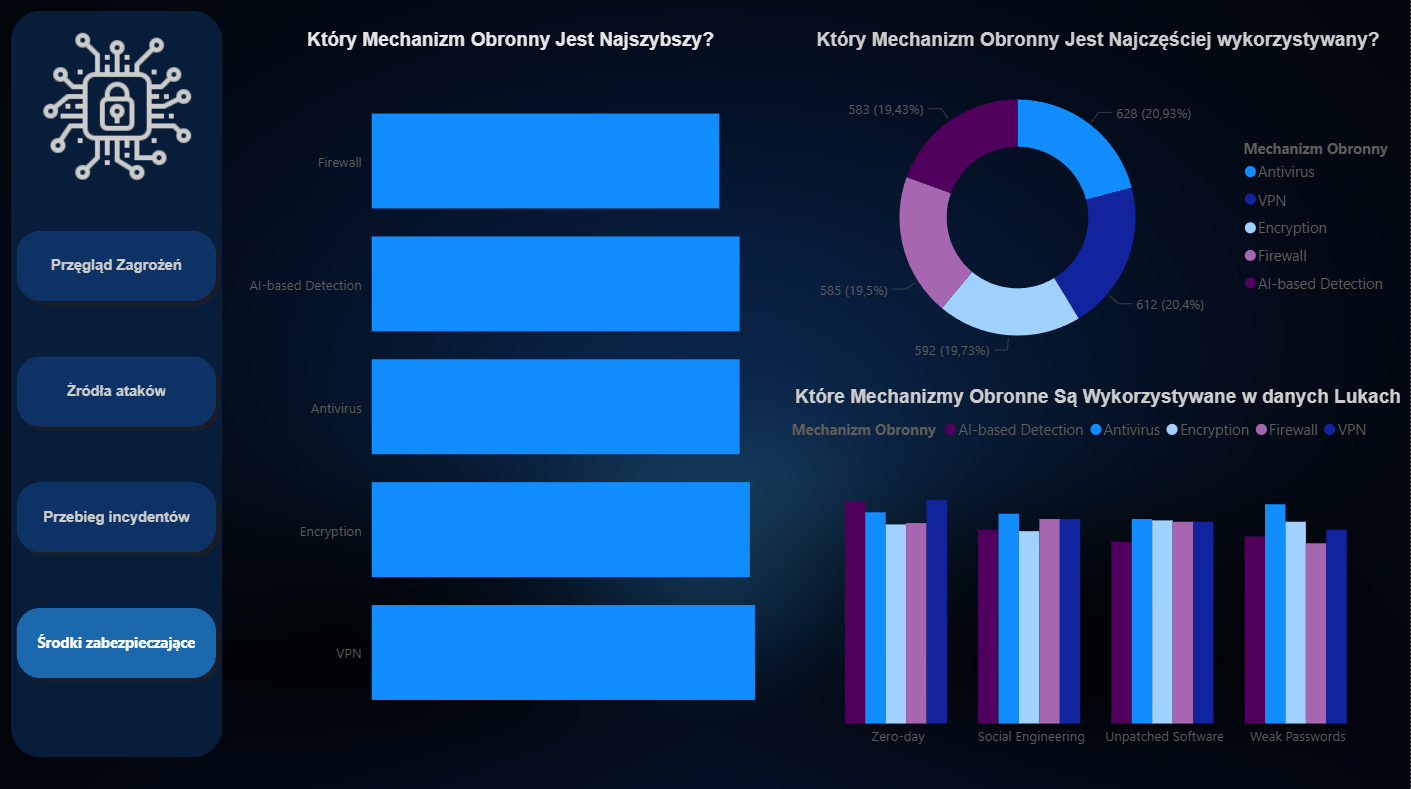

This screenshot's page, from the dashboard's own definition file:
{"tool":"powerbi","page":{"name":"Środki zabezpieczające","canvas":[1280,720],"ordinal":3},"visuals":[{"type":"shape","box":[12.1,13.1,191.6,676.8],"z":0},{"type":"clusteredColumnChart","title":"Które Mechanizmy Obronne Są Wykorzystywane w danych Lukach","fields":{"Category":["Global_Cybersecurity_Threats_2015-2024.Typ luki w zabezpieczeniu"],"Y":["CountNonNull(Global_Cybersecurity_Threats_2015-2024.Rodzaj ataku)"],"Series":["Global_Cybersecurity_Threats_2015-2024.Mechanizm Obronny"]},"box":[714.6,351.8,565.8,337.3],"z":1000},{"type":"donutChart","title":"Który Mechanizm Obronny Jest Najczęściej wykorzystywany?","fields":{"Category":["Global_Cybersecurity_Threats_2015-2024.Mechanizm Obronny"],"Y":["CountNonNull(Global_Cybersecurity_Threats_2015-2024.Rodzaj ataku)"]},"box":[714.6,28.1,565.8,323.7],"z":2000},{"type":"image","box":[23.6,28.5,169,142.4],"z":3000},{"type":"barChart","title":"Który Mechanizm Obronny Jest Najszybszy?","fields":{"Category":["Global_Cybersecurity_Threats_2015-2024.Mechanizm Obronny"],"Y":["Median(Global_Cybersecurity_Threats_2015-2024.Czas razwiazywania indycnetu)"]},"box":[214.9,28.1,499.6,662],"z":4000},{"type":"pageNavigator","box":[11.8,206.8,191.3,418],"z":5000}]}

Visuals, with their boxes in screenshot pixels (x1, y1, x2, y2), scaled from the page's 1280x720 canvas onto the 1411x789 screenshot:
shape: left=13, top=14, right=225, bottom=756
"Które Mechanizmy Obronne Są Wykorzystywane w danych Lukach" clusteredColumnChart: left=788, top=386, right=1410, bottom=755
"Który Mechanizm Obronny Jest Najczęściej wykorzystywany?" donutChart: left=788, top=31, right=1410, bottom=386
image: left=26, top=31, right=212, bottom=187
"Który Mechanizm Obronny Jest Najszybszy?" barChart: left=237, top=31, right=788, bottom=756
pageNavigator: left=13, top=227, right=224, bottom=685
